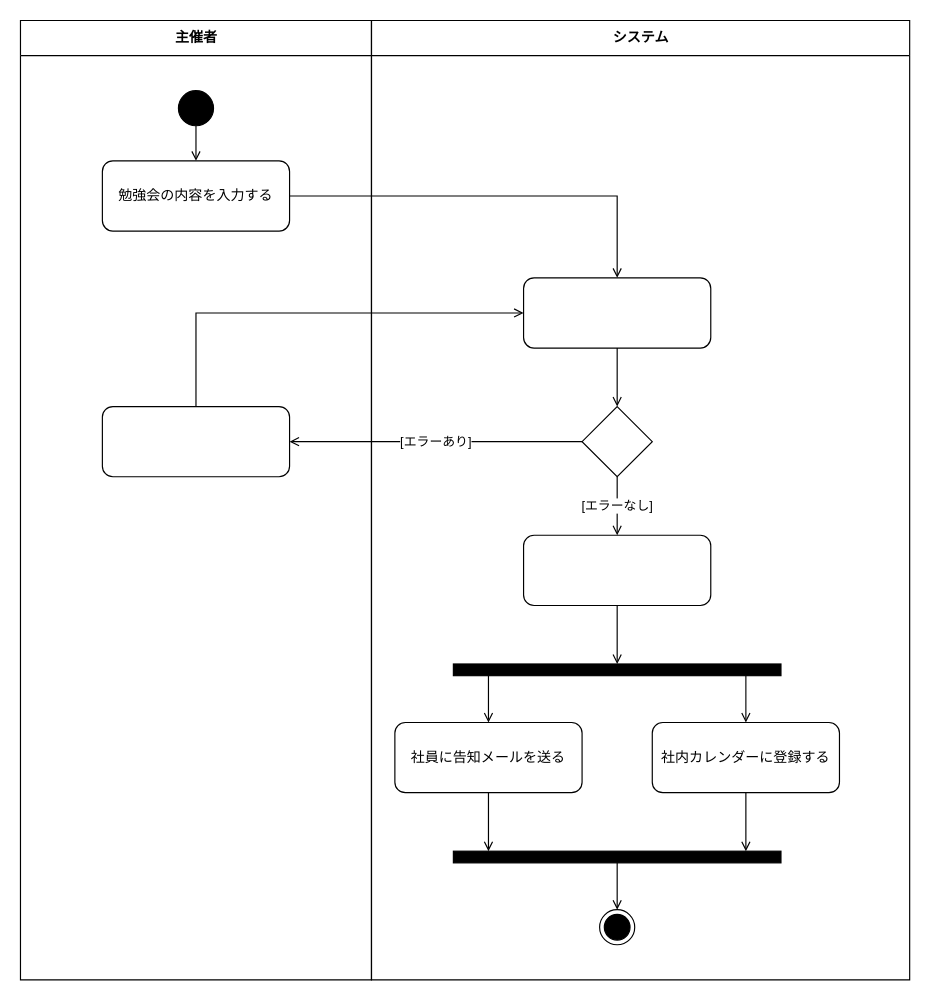
Image size: 930x1000. Some labels were removed from this diagram. Here are the shapes that lost their labels. From the top down, the centre of each, then its label:
At (x=616, y=312): "入力内容をチェックする".
At (x=195, y=441): "入力内容を修正する".
At (x=616, y=569): "勉強会を登録する".
